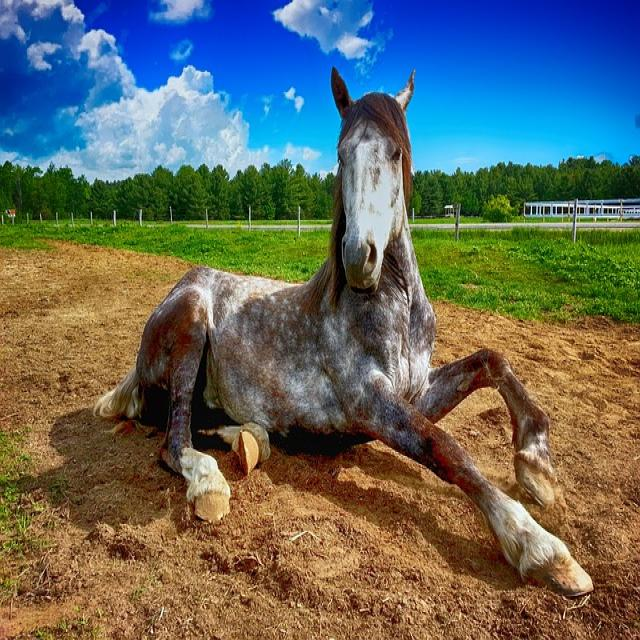Herbivorous: (95, 72, 591, 599)
